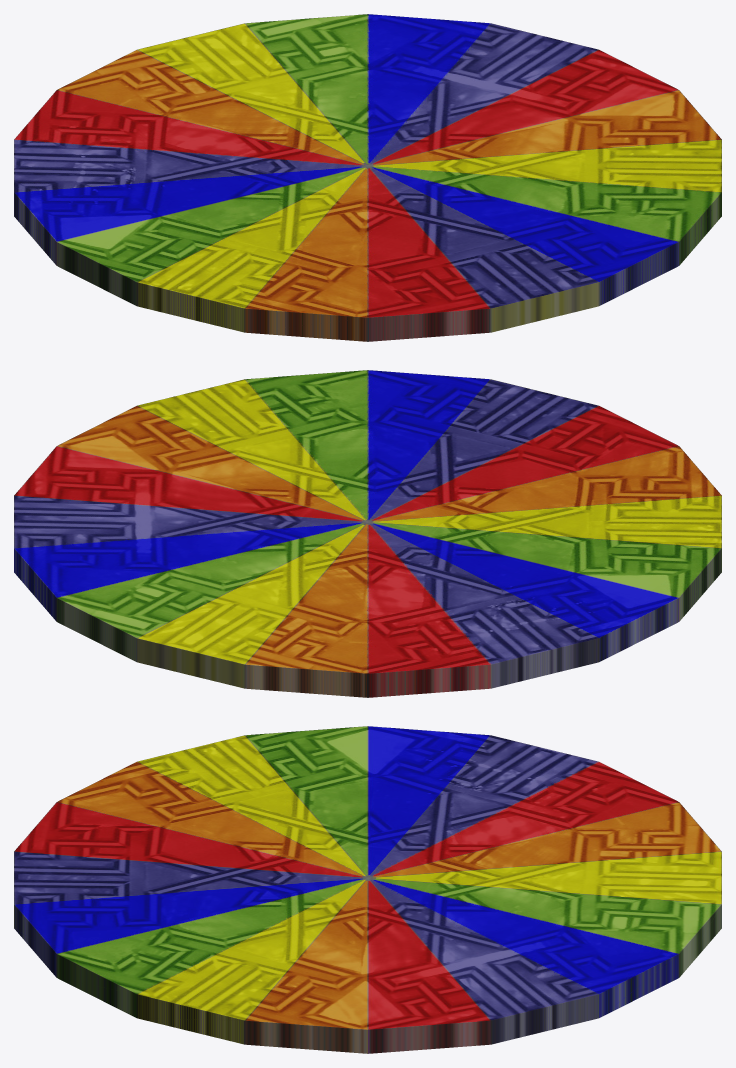
The model's file is endRoundTable.fbx.
3 renders of one model, top to bottom at view 1: azimuth 30°, elevation 25°; view 2: azimuth 150°, elevation 25°; view 3: azimuth 270°, elevation 25°, orthographic.
Visible parts, largest first — view 1: pCylinder48; view 2: pCylinder48; view 3: pCylinder48.
Boxes of the visible parts, <box> form: pCylinder48: <box>14,14,721,341</box>; pCylinder48: <box>14,370,721,697</box>; pCylinder48: <box>14,726,721,1053</box>.
Bounding box in the file's own units: 75.06 × 2.76 × 73.92.
1 material, 1 textured.
